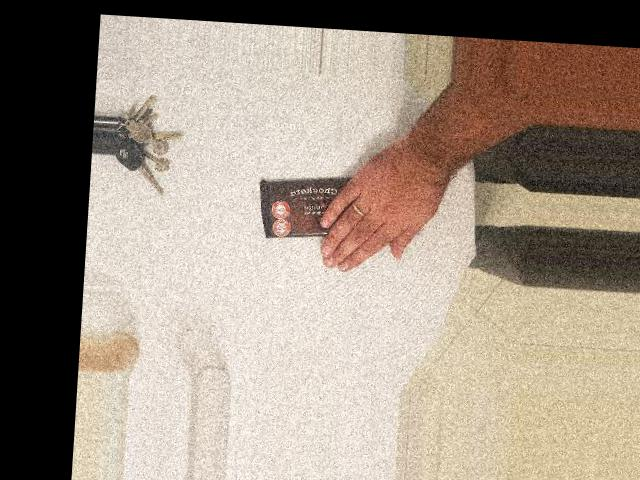chocolate: (250, 163, 414, 255)
